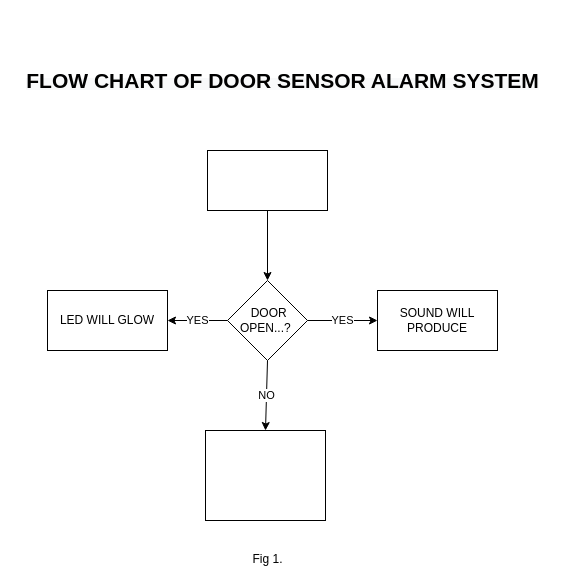
Image size: 564x587. Some labels were removed from this diagram. The centre of each missing label's shape, as x and y in pixels:
"NO SOUND AND NO LED WILL GLOW" goes at pixel 265 475.
"START" goes at pixel 267 180.
